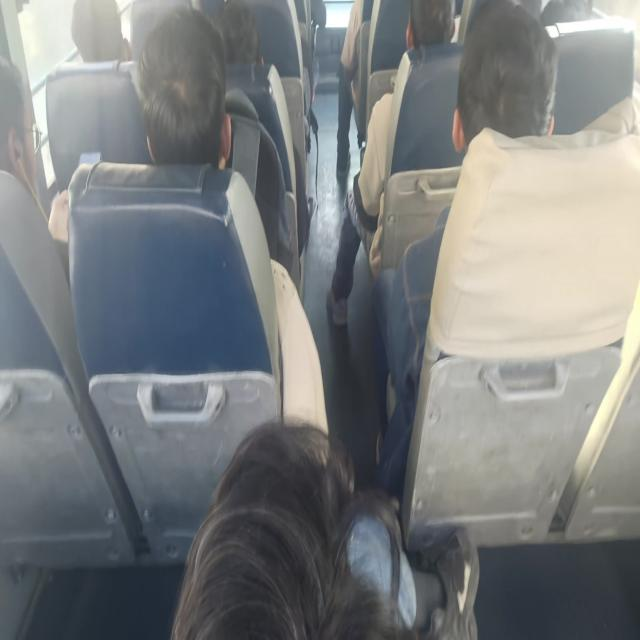person: (192, 434, 484, 640), (472, 20, 566, 158), (146, 16, 228, 171), (192, 0, 274, 100), (0, 58, 63, 182), (61, 0, 126, 71), (398, 0, 469, 47)
